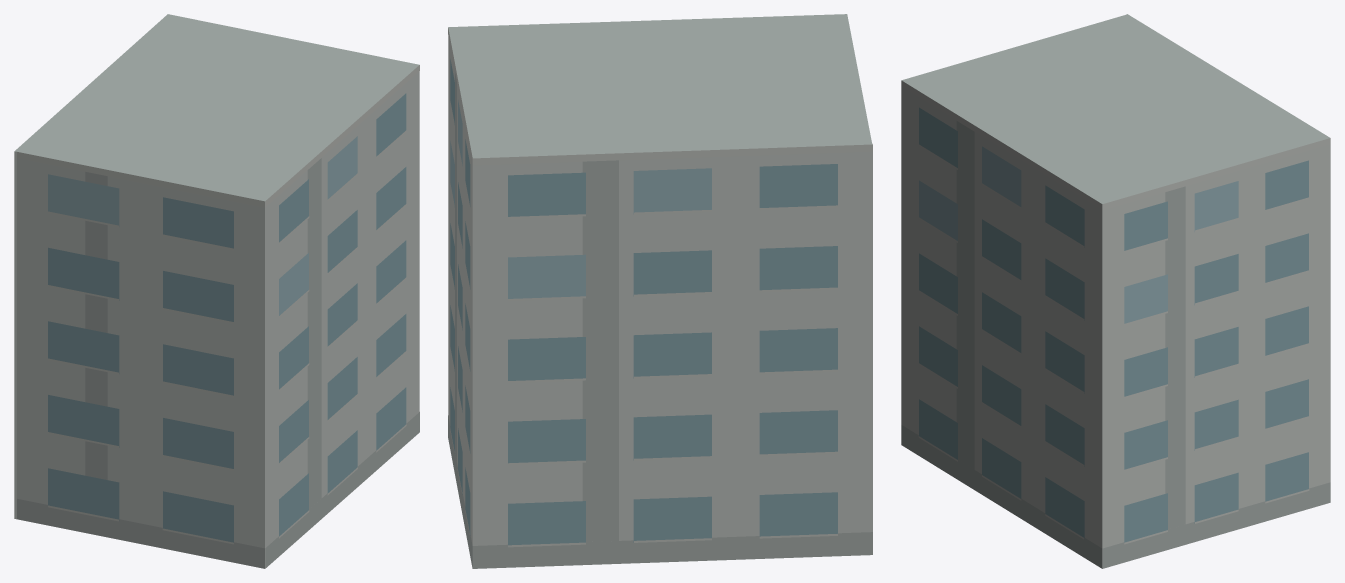
The model's file is survey-upis-32609606.glb.
3 renders of one model, left to right at view 1: azimuth 30°, elevation 25°; view 2: azimuth 150°, elevation 25°; view 3: azimuth 270°, elevation 25°, orthographic. The views are drawn at different scales.
Parts seen in each view (by area): view 1: survey-upis-32609606.tmp; view 2: survey-upis-32609606.tmp; view 3: survey-upis-32609606.tmp.
Boxes of the visible parts, left/top/right/bottom form: survey-upis-32609606.tmp: left=14, top=14, right=419, bottom=568; survey-upis-32609606.tmp: left=448, top=14, right=872, bottom=568; survey-upis-32609606.tmp: left=901, top=14, right=1330, bottom=568.
Size of the model in its own units: 15.84 by 14.15 by 15.1.
